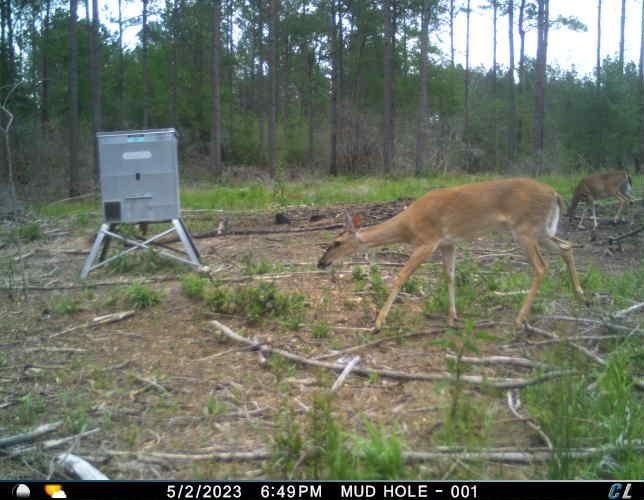Deer: (316, 175, 594, 331), (562, 166, 639, 234)
